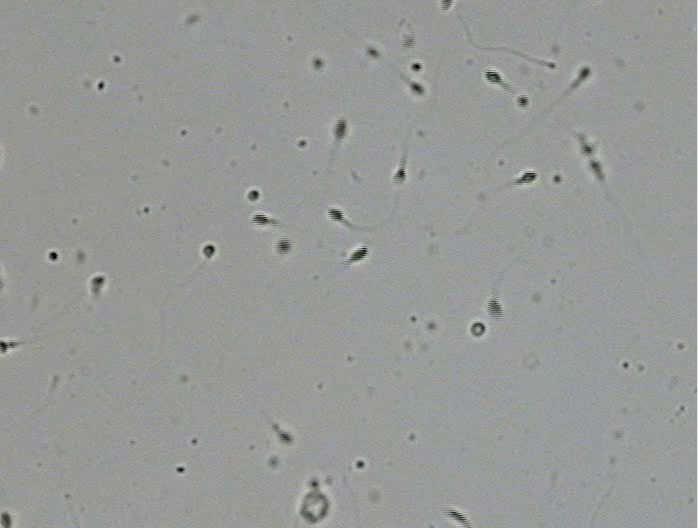Impurity: (300, 479, 329, 523)
S: (445, 509, 468, 525), (486, 299, 504, 319), (348, 245, 369, 262), (275, 238, 292, 255), (334, 118, 347, 140), (589, 160, 604, 179), (251, 213, 270, 226), (517, 172, 537, 184), (327, 208, 344, 222), (393, 167, 407, 184), (485, 70, 502, 84), (91, 276, 105, 292), (470, 322, 486, 336), (409, 81, 424, 95), (580, 140, 593, 155), (578, 66, 591, 80), (1, 512, 12, 528), (202, 245, 215, 258), (279, 431, 293, 443), (402, 36, 415, 48), (366, 47, 380, 57), (517, 95, 528, 107), (440, 1, 453, 11), (248, 190, 259, 201), (1, 340, 9, 354), (411, 63, 422, 72), (313, 59, 322, 69)
